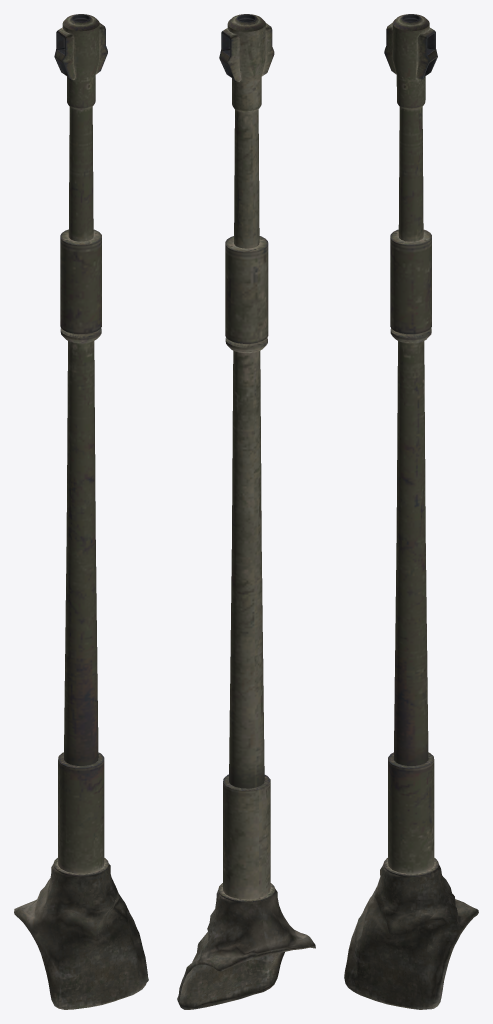
Rendered from Gun_01.glb.
The picture shows the model from 3 angles, left to right: view 1: azimuth 30°, elevation 25°; view 2: azimuth 210°, elevation 25°; view 3: azimuth 330°, elevation 25°; orthographic projection. The views are drawn at different scales.
Parts seen in each view (by area): view 1: set_0_group_0; view 2: set_0_group_0; view 3: set_0_group_0.
Part boxes in pixels (x1,y1,x2,y2): set_0_group_0: [14, 14, 148, 1009]; set_0_group_0: [177, 14, 315, 1009]; set_0_group_0: [344, 14, 478, 1009].
Size of the model in its own units: 0.5009 by 4.83 by 0.4052.
Materials: 1 (1 with a texture image).
